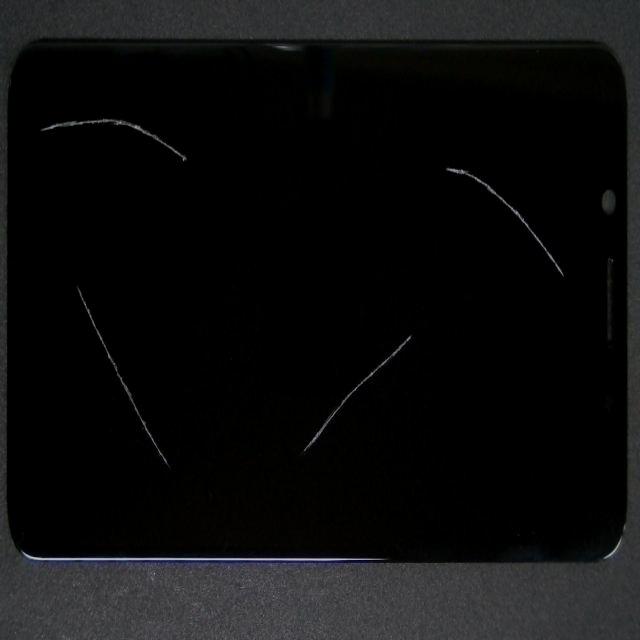scratch: (274, 88, 566, 532), (94, 103, 290, 265), (144, 344, 220, 597)
